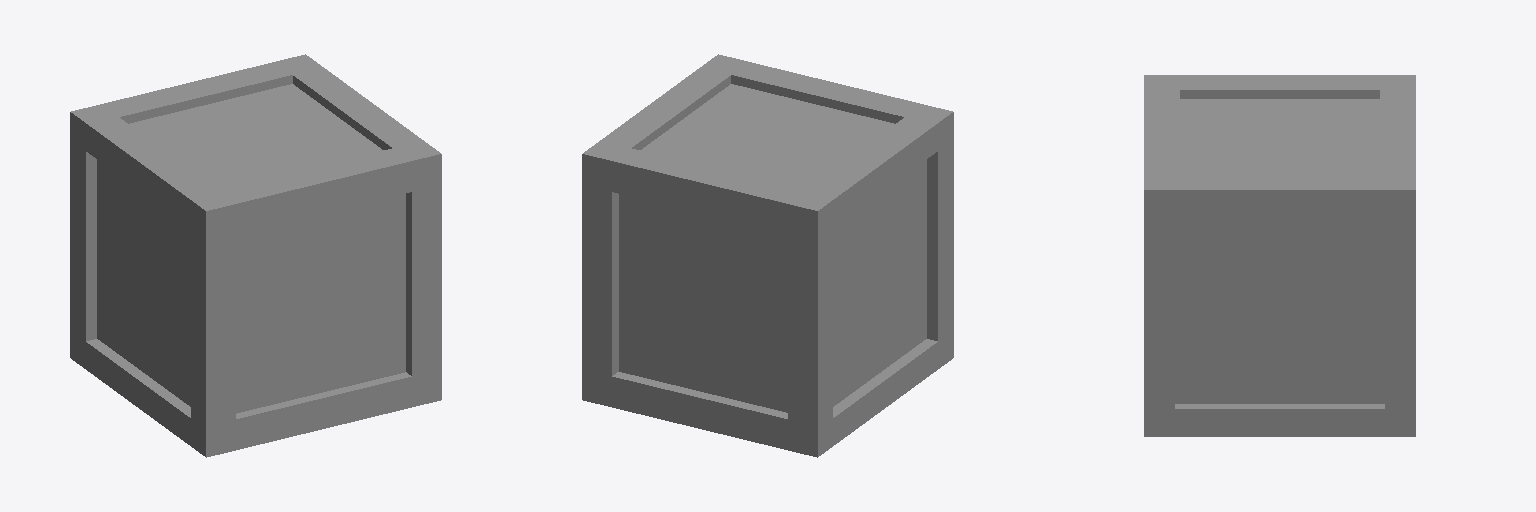
3 renders of one model, left to right at view 1: azimuth 30°, elevation 25°; view 2: azimuth 150°, elevation 25°; view 3: azimuth 270°, elevation 25°, orthographic.
Visible parts, largest first — view 1: Cube.099_Cube.106; view 2: Cube.099_Cube.106; view 3: Cube.099_Cube.106.
Part boxes in pixels (left/top/right/bottom): Cube.099_Cube.106: left=70, top=54, right=441, bottom=457; Cube.099_Cube.106: left=582, top=54, right=953, bottom=457; Cube.099_Cube.106: left=1144, top=75, right=1415, bottom=436.
Size of the model in its own units: 1.57 by 1.57 by 1.57.